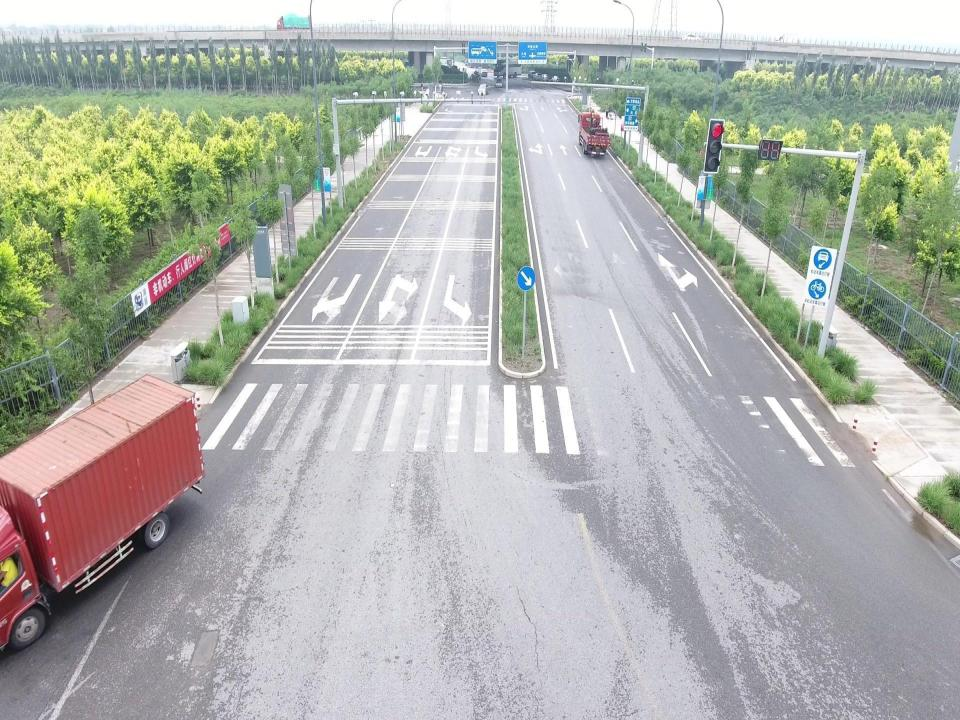bus: (492, 60, 522, 78)
car: (477, 83, 490, 95), (494, 78, 503, 87), (528, 70, 537, 78), (480, 69, 488, 77), (534, 72, 542, 78)
truck: (0, 374, 205, 657), (578, 110, 611, 156)
